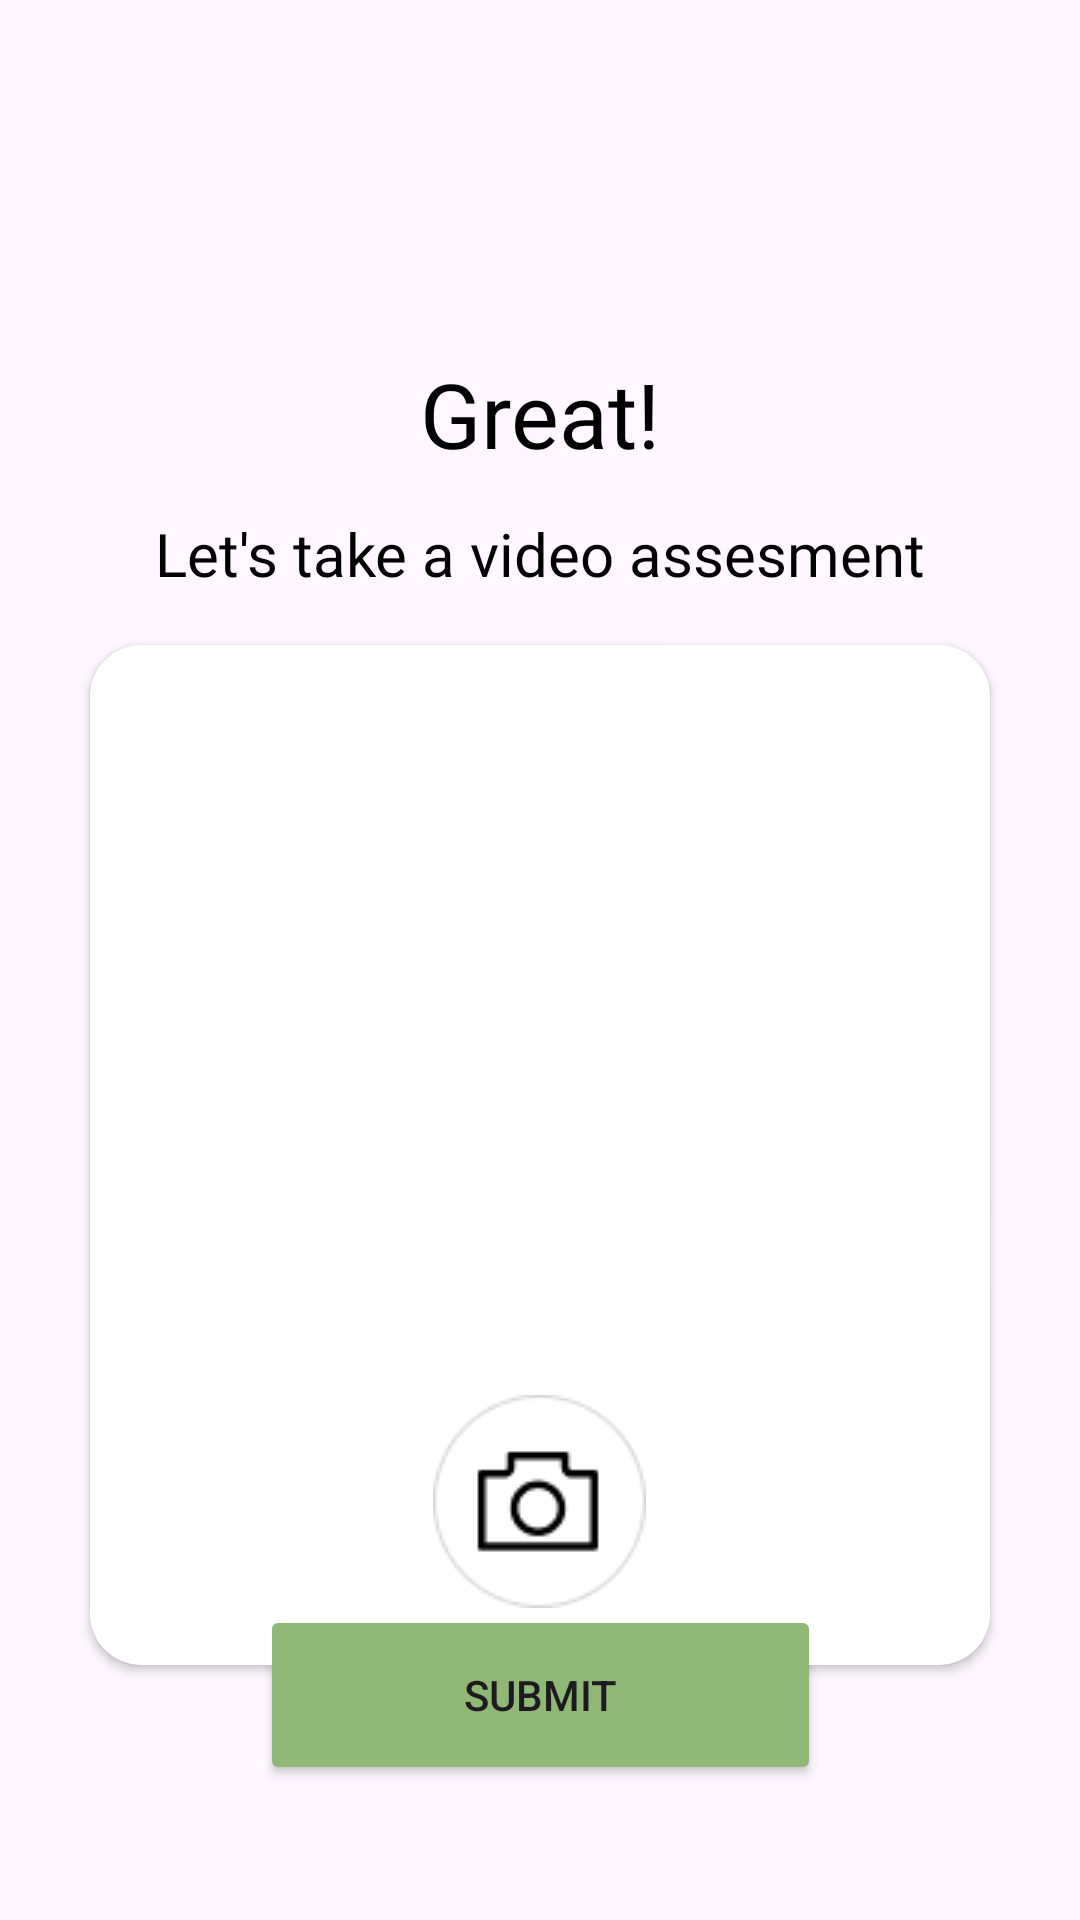

Screen size 1080w x 1920h. Icon name, then its center in pixels as [x,y]:
cameraimg: [539,1501]
